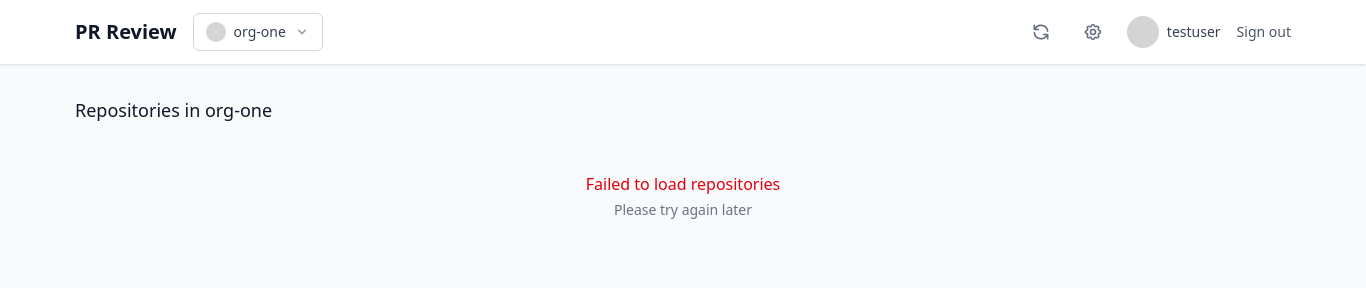
Dashboard › displays error message when refresh fails with rate limit exceeded
What coordinates should you click on to do the following:
click the button titled "Refresh"
I would click on:
 (1041, 32)
Its box is [1023,14,1059,50].
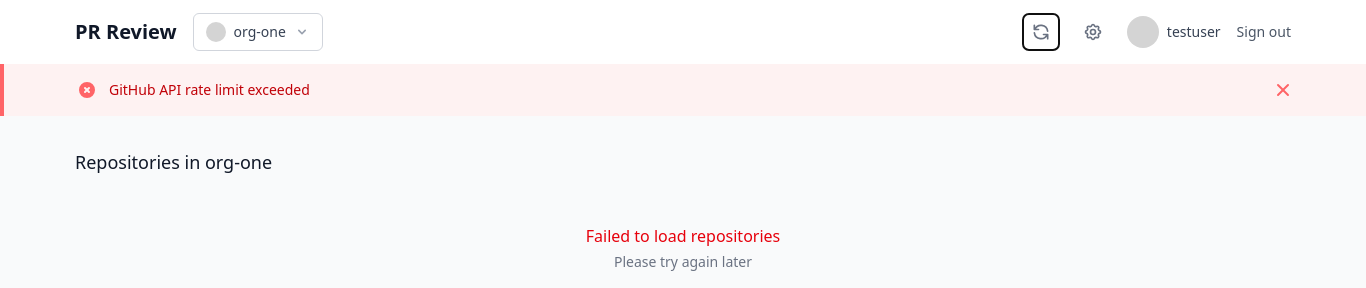
expect the text "GitHub API rate limit exceeded" is shown: met, box [109,80,310,100]
